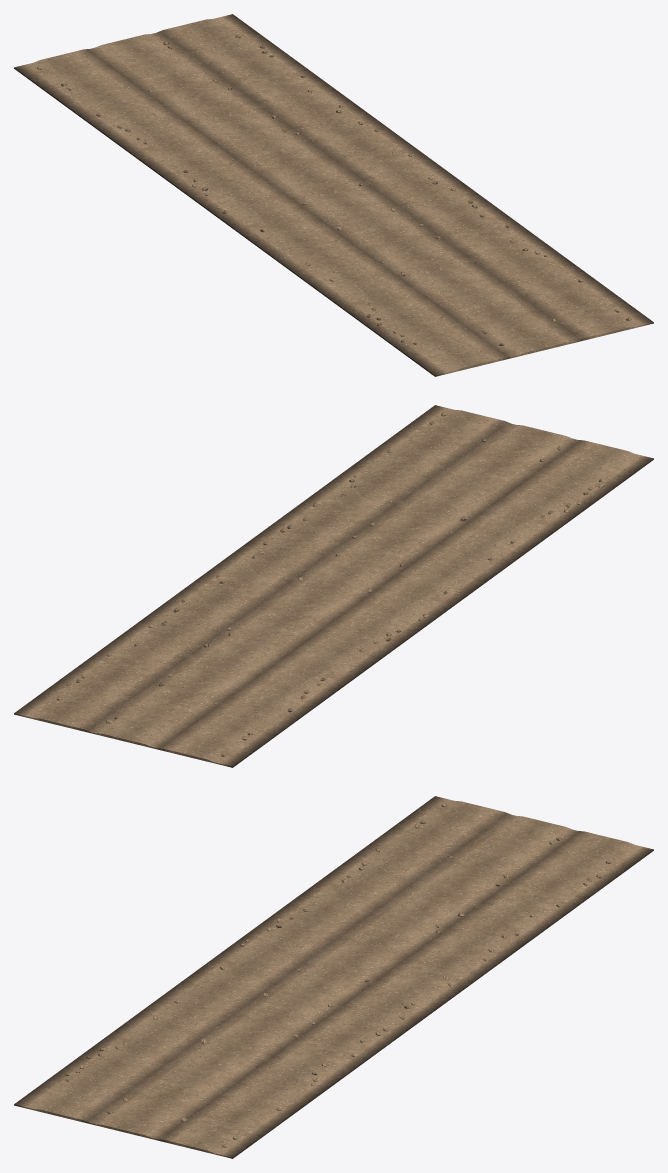
File: balasto_chunk.glb
3 renders of one model, top to bottom at view 1: azimuth 30°, elevation 25°; view 2: azimuth 150°, elevation 25°; view 3: azimuth 330°, elevation 25°, orthographic.
Parts seen in each view (by area): view 1: Balasto_Chunk; view 2: Balasto_Chunk; view 3: Balasto_Chunk.
Part boxes in pixels (bbox=[...]): Balasto_Chunk: bbox=[14, 14, 653, 376]; Balasto_Chunk: bbox=[14, 405, 653, 767]; Balasto_Chunk: bbox=[14, 796, 653, 1158].
Size of the model in its own units: 9.6 by 0.2169 by 32.
1 material, 1 textured.
